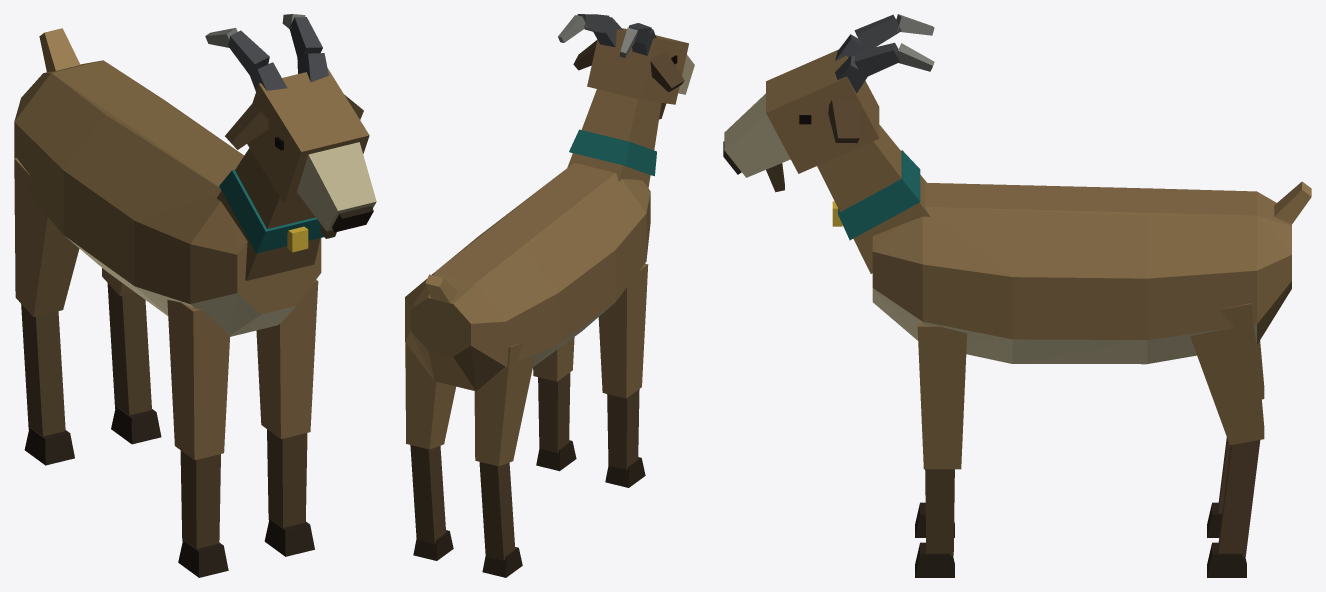
File: pet_goat.glb
The picture shows the model from 3 angles, left to right: view 1: azimuth 30°, elevation 25°; view 2: azimuth 150°, elevation 25°; view 3: azimuth 270°, elevation 25°; orthographic projection. The views are drawn at different scales.
Visible parts, largest first — view 1: body, head, leg_fr, leg_br, leg_fl, neck, leg_bl, tail; view 2: body, leg_br, head, leg_fr, leg_bl, neck, leg_fl, tail; view 3: body, head, leg_bl, leg_fl, neck, leg_br, tail.
Boxes of the visible parts, box(x1,y1,x2,y2) form: body: box(14, 60, 321, 336); head: box(205, 14, 376, 238); leg_fr: box(167, 299, 230, 577); leg_br: box(14, 158, 79, 465); leg_fl: box(256, 279, 318, 556); neck: box(216, 148, 323, 280); leg_bl: box(102, 268, 161, 444); tail: box(39, 28, 80, 71); body: box(405, 163, 650, 391); leg_br: box(474, 342, 535, 577); head: box(558, 14, 694, 119); leg_fr: box(598, 263, 648, 487); leg_bl: box(405, 343, 455, 560); neck: box(567, 89, 661, 187); leg_fl: box(533, 337, 576, 471); tail: box(425, 274, 457, 303); body: box(872, 182, 1291, 364); head: box(723, 14, 934, 192); leg_bl: box(1190, 303, 1264, 577); leg_fl: box(915, 323, 966, 577); neck: box(817, 125, 929, 273); leg_br: box(1207, 341, 1264, 537); tail: box(1274, 181, 1311, 224).
Size of the model in its own units: 0.3141 by 1.15 by 1.18.
